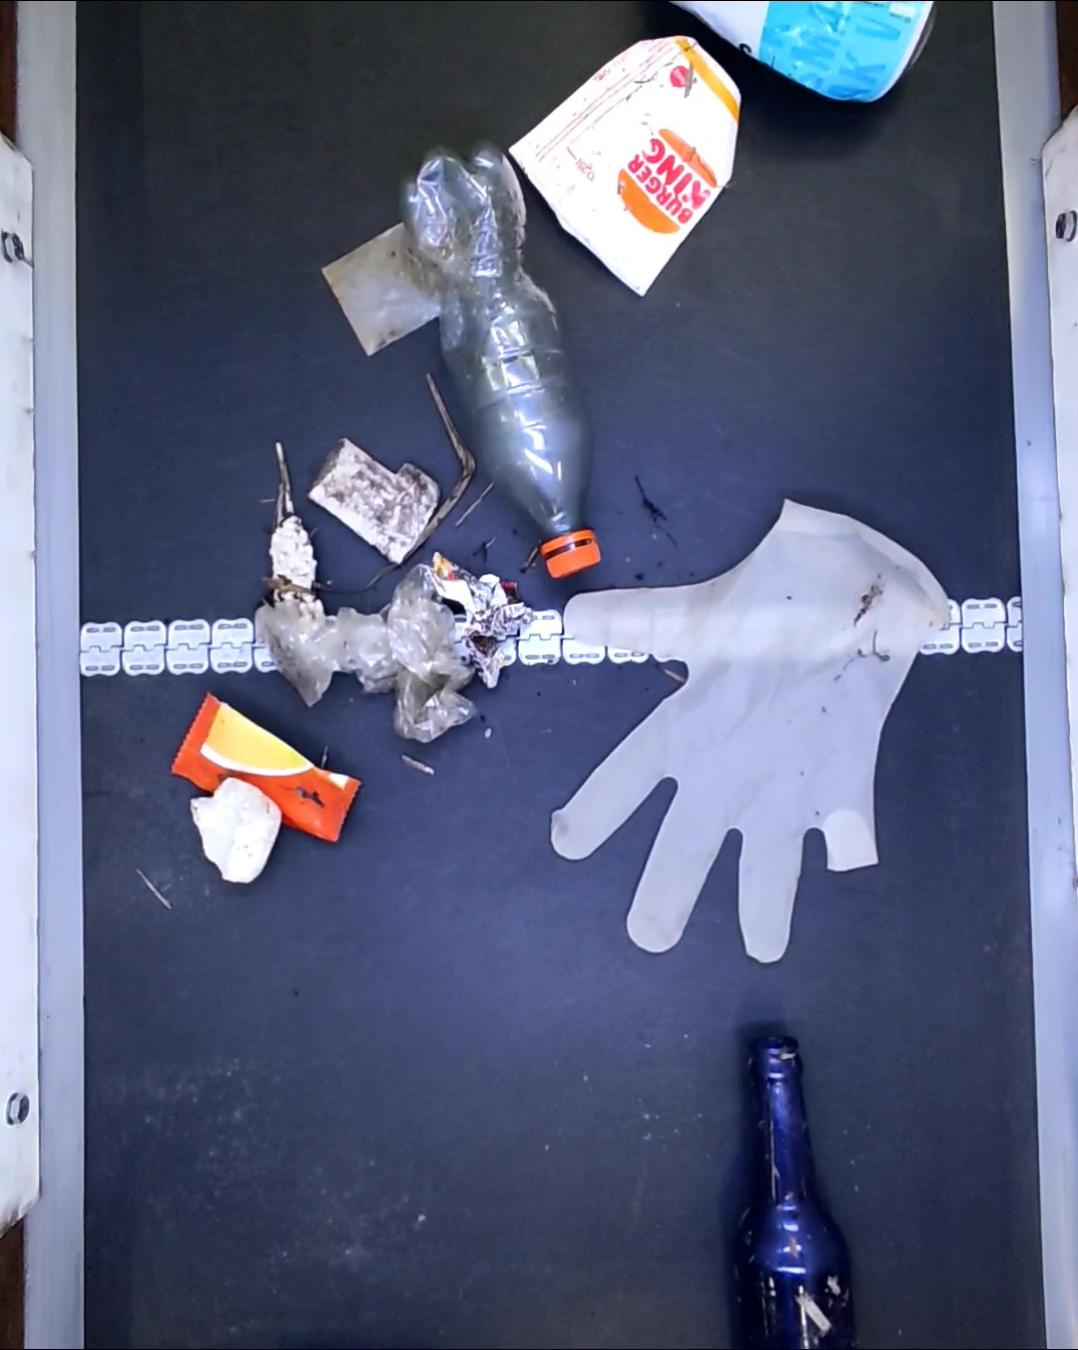Drankblikjes: (663, 0, 933, 106)
Drankflessen - 1-2 liter: (400, 144, 601, 582)
Plastic folies of stukken daarvan 2.5- 50 cm: (254, 568, 476, 738), (318, 210, 455, 355)
Snoep snack en chips verpakkingen: (174, 693, 362, 841)
